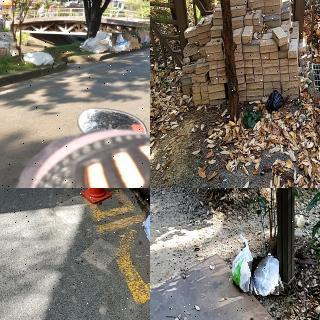Garbage: (230, 235, 258, 296), (249, 256, 282, 296), (264, 85, 288, 116), (22, 49, 59, 67), (141, 188, 150, 243), (111, 32, 131, 52), (124, 30, 142, 50), (92, 39, 110, 54), (138, 30, 149, 44)
